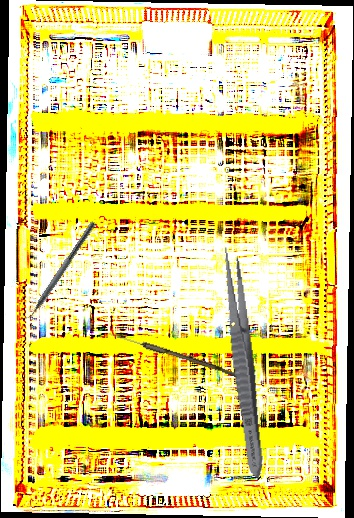Chopper: (17, 216, 97, 328)
Dressing Forceps: (216, 245, 270, 481)
Surgical Spoon: (107, 330, 242, 379)
